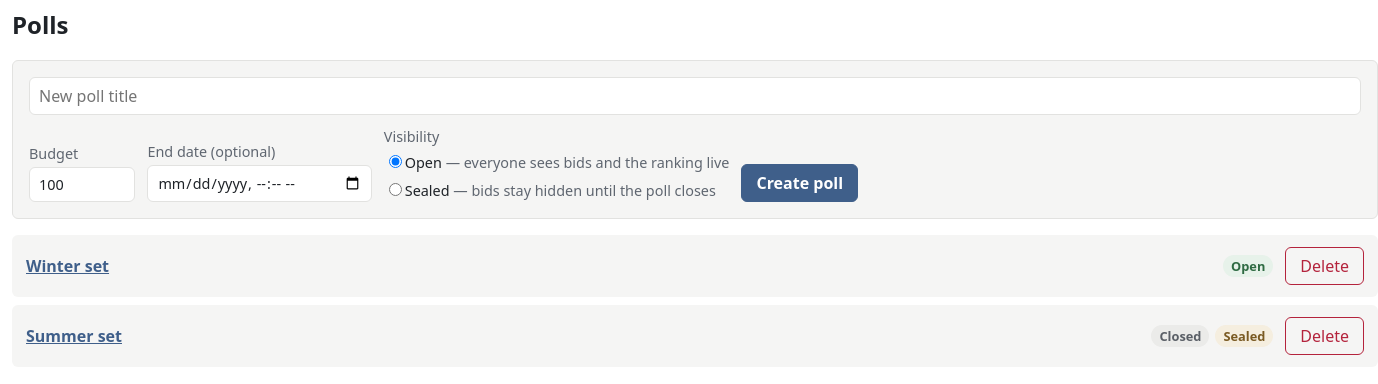
Test: PollsList › creates a sealed poll with a custom budget and end date
Type "Fall set" into the field labelled "New poll title". click: (695, 96)
box: [29,77,1361,115]
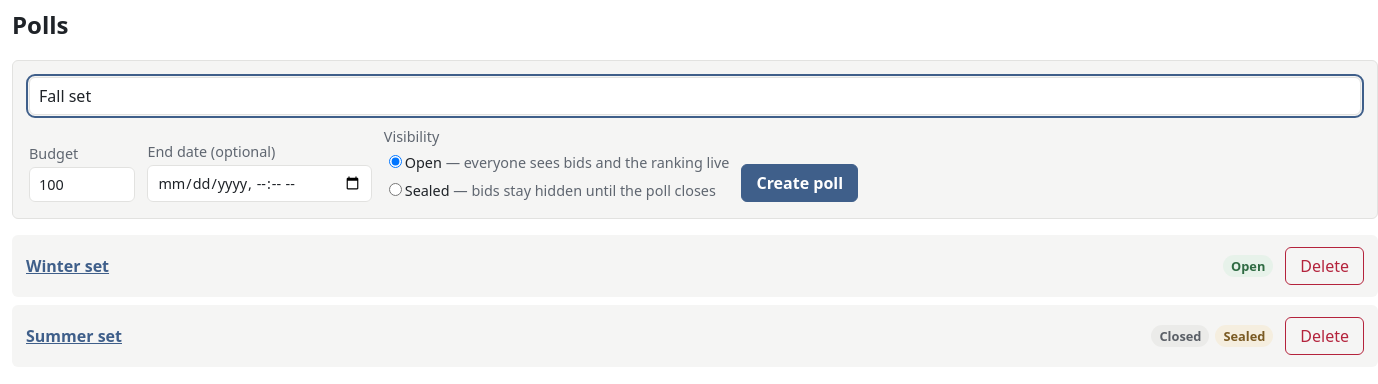
Replace the text in the number field labelled "Budget" with "150". click: (82, 184)
box: [29,167,135,202]
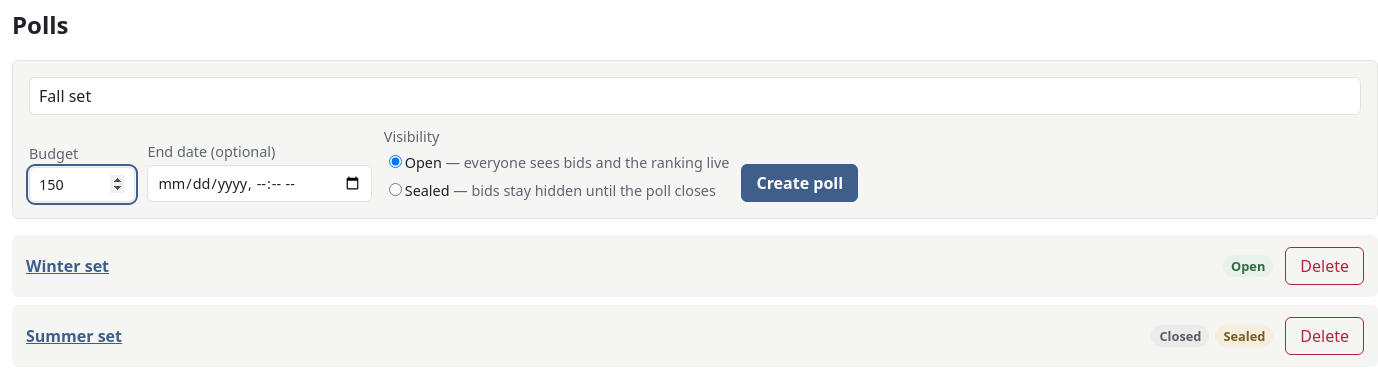
Click the radio button labelled "Sealed — bids stay hidden until the poll closes". click: (395, 189)
box: [389,183,402,196]
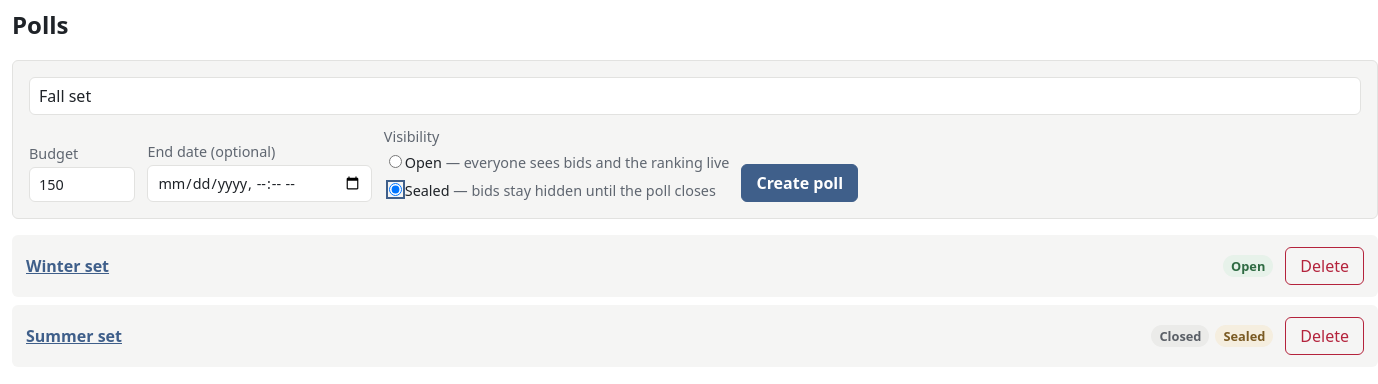
Type "2999-10-16T20:00" into the field labelled "End date (optional)". click: (260, 183)
box: [147,165,372,202]
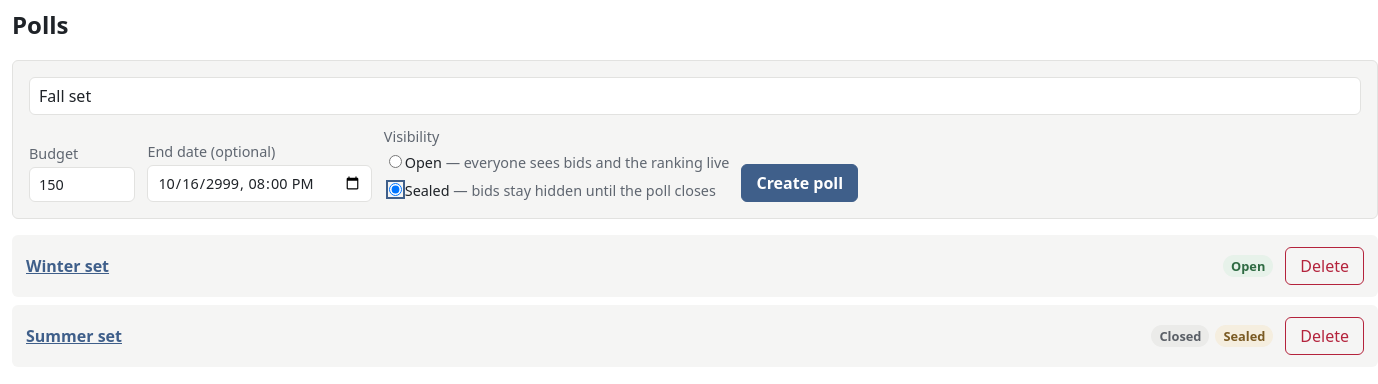
Click the button "Create poll". click: (800, 183)
box: [741,164,858,202]
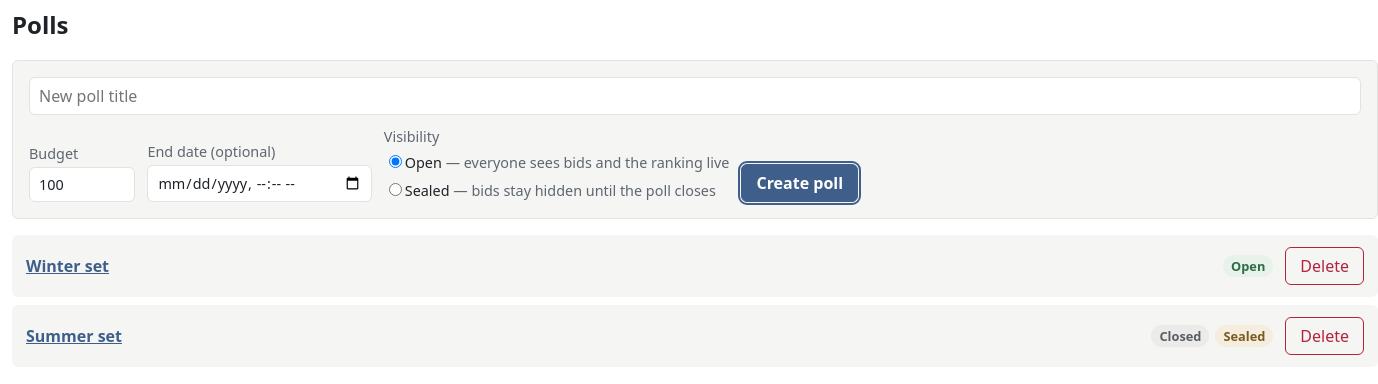
Result: the number field labelled "Budget" holds "100" at [29,167,135,202]
Result: the radio button labelled "Open — everyone sees bids and the ranking live" is checked at [389,155,402,168]
